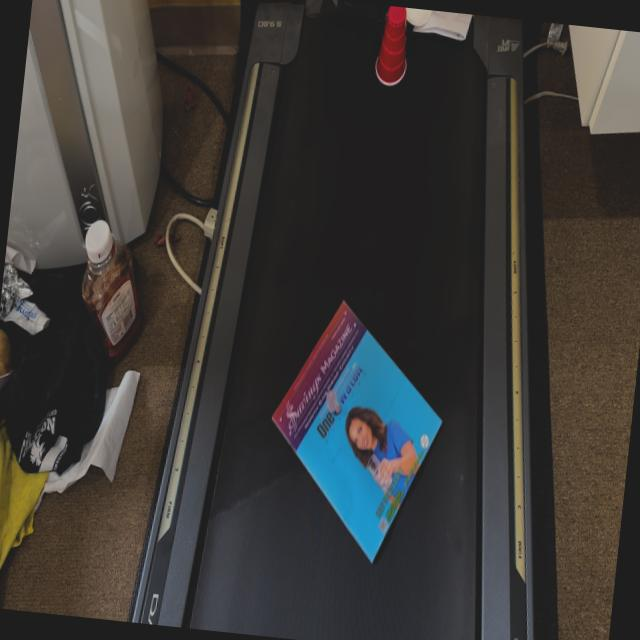Recycle: (256, 294, 456, 568), (367, 4, 414, 90)
